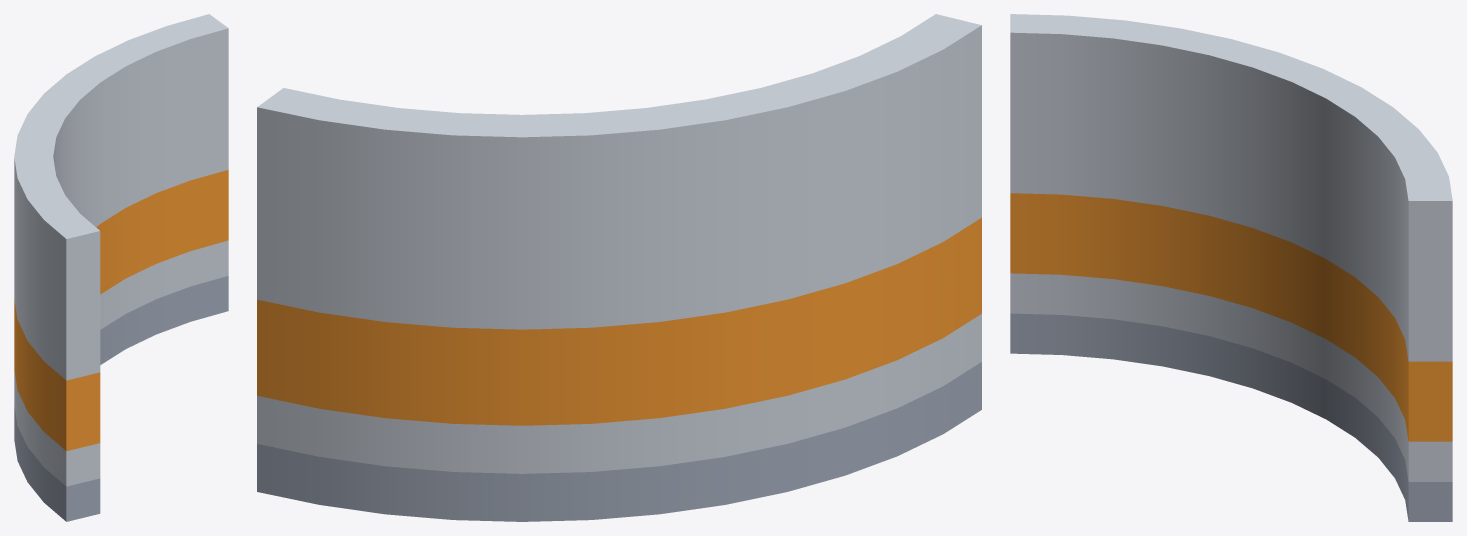
The model's file is corridor_wallCorner.glb.
3 renders of one model, left to right at view 1: azimuth 30°, elevation 25°; view 2: azimuth 150°, elevation 25°; view 3: azimuth 270°, elevation 25°, orthographic. The views are drawn at different scales.
Parts seen in each view (by area): view 1: corridor_wallCorner; view 2: corridor_wallCorner; view 3: corridor_wallCorner.
Boxes of the visible parts, <box> form: corridor_wallCorner: <box>14,14,228,521</box>; corridor_wallCorner: <box>257,14,981,521</box>; corridor_wallCorner: <box>1010,14,1452,521</box>.
Size of the model in its own units: 1 by 0.8 by 1.
